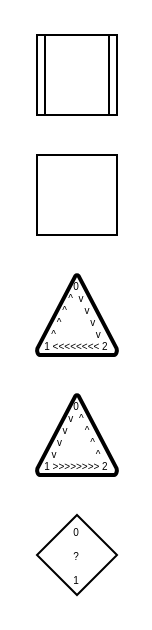
Image size: 152x630. Some labels were removed from this diagram. The shapes that lost their labels are listed below. From the top down, each one's box as (x1, y1, x2, y2) in pixels, then its label:
(35, 33, 117, 115): mainframe
(35, 153, 117, 235): endpoint
